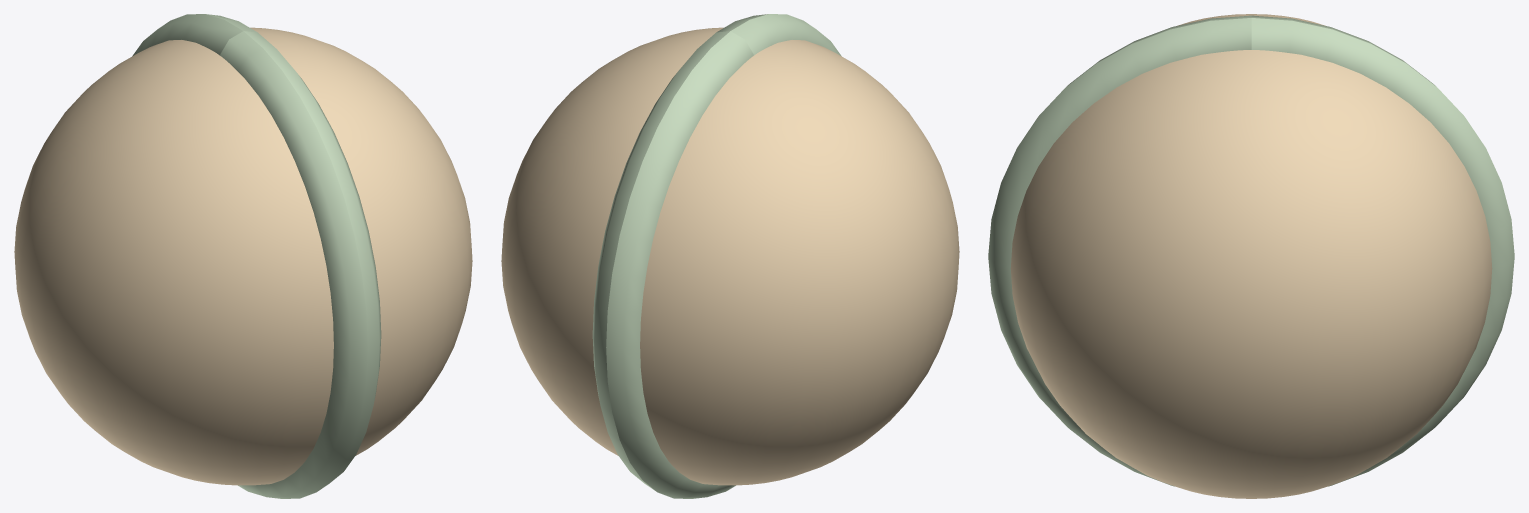
Rendered from jelly-friends-playroom-wooden-ball-9daa23cf__27639.glb.
The picture shows the model from 3 angles, left to right: view 1: azimuth 30°, elevation 25°; view 2: azimuth 150°, elevation 25°; view 3: azimuth 270°, elevation 25°; orthographic projection. The views are drawn at different scales.
Parts seen in each view (by area): view 1: wooden-ball; view 2: wooden-ball; view 3: wooden-ball.
Part boxes in pixels (x1,y1,x2,y2): wooden-ball: [14, 14, 472, 498]; wooden-ball: [501, 14, 959, 498]; wooden-ball: [988, 14, 1514, 498].
Size of the model in its own units: 0.13 by 0.141 by 0.141.
